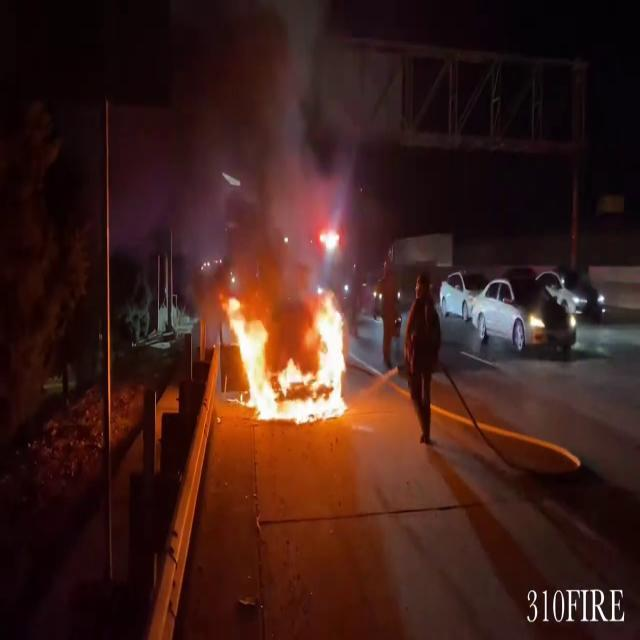Fire: (224, 286, 352, 422)
Smoke: (130, 0, 352, 301)
